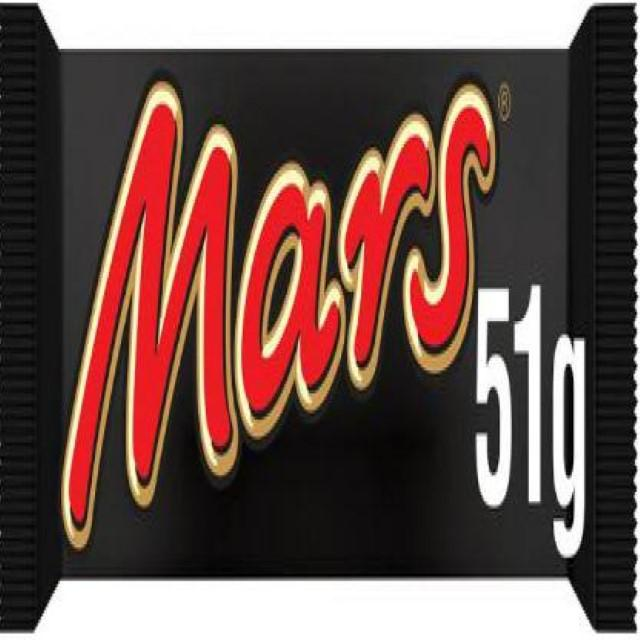mars_chocolate: (25, 30, 640, 555)
